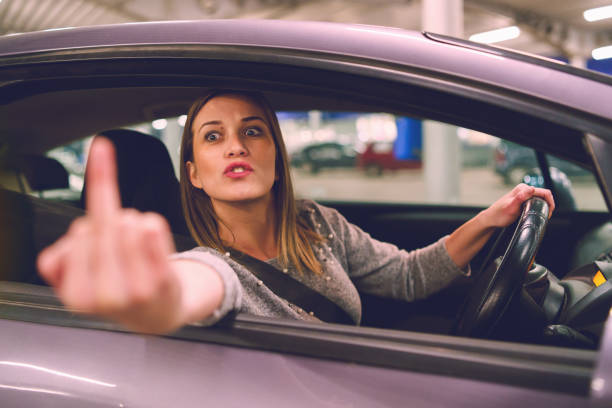insulting_gesture: (35, 130, 182, 337)
